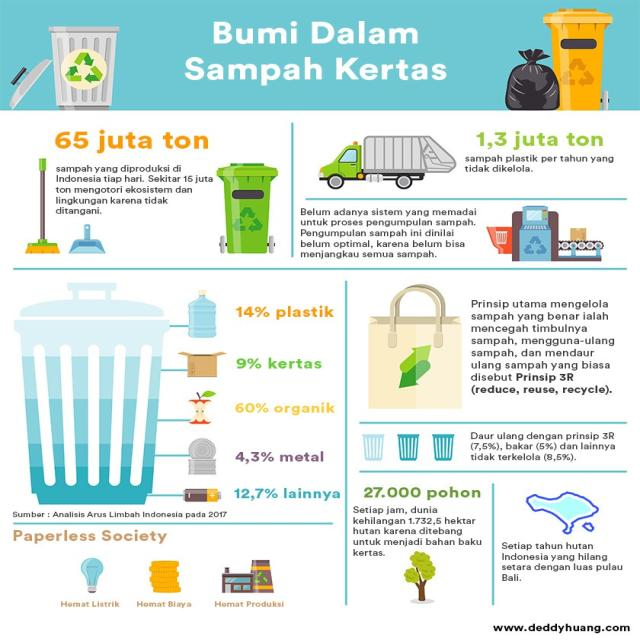Kertas: (57, 88, 594, 572)
